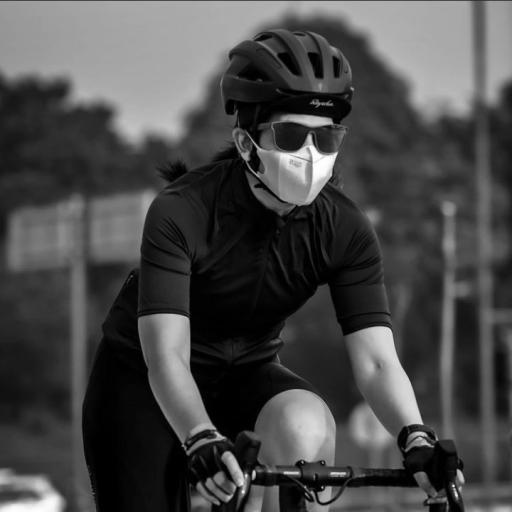mask: (254, 117, 337, 207)
